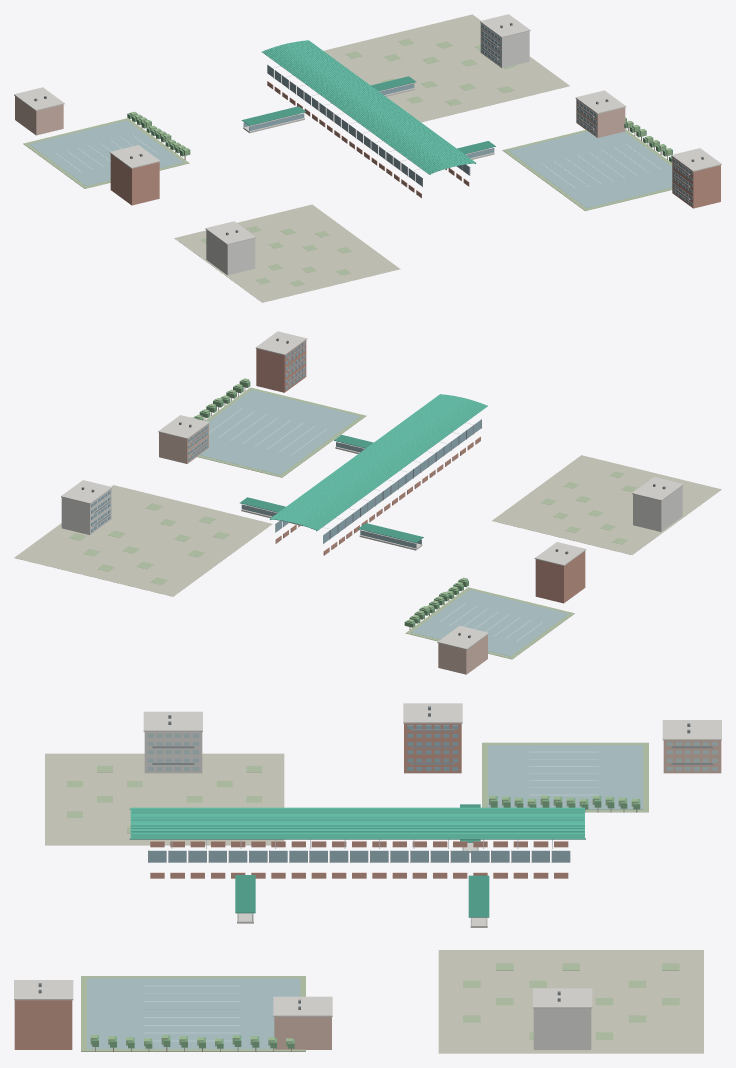
3 renders of one model, top to bottom at view 1: azimuth 30°, elevation 25°; view 2: azimuth 150°, elevation 25°; view 3: azimuth 270°, elevation 25°, orthographic. The views are drawn at different scales.
Parts seen in each view (by area): view 1: Station 2 photo-informed architecture and surroundings; view 2: Station 2 photo-informed architecture and surroundings; view 3: Station 2 photo-informed architecture and surroundings.
Part boxes in pixels (x1,y1,x2,y2): Station 2 photo-informed architecture and surroundings: (14,14,721,302); Station 2 photo-informed architecture and surroundings: (14,331,721,674); Station 2 photo-informed architecture and surroundings: (14,703,721,1053).
Size of the model in its own units: 256 by 30.69 by 246.
